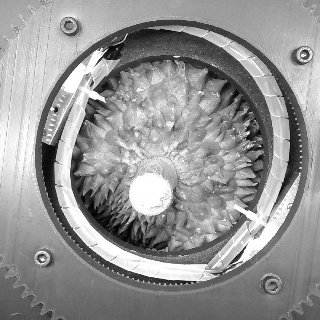base: (128, 150, 192, 184)
end: (128, 172, 173, 217)
